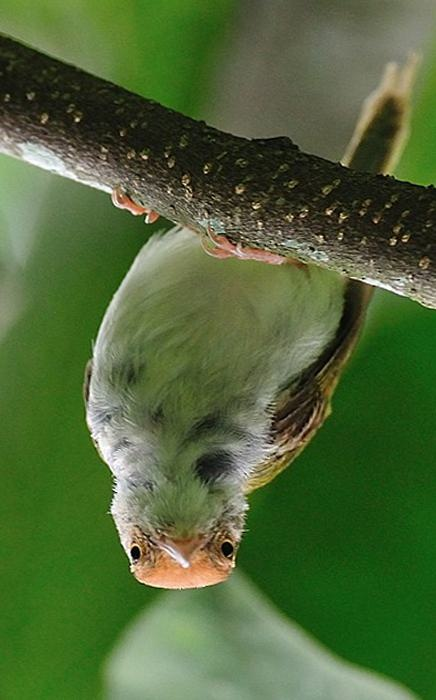tailorbird: (92, 100, 436, 603)
